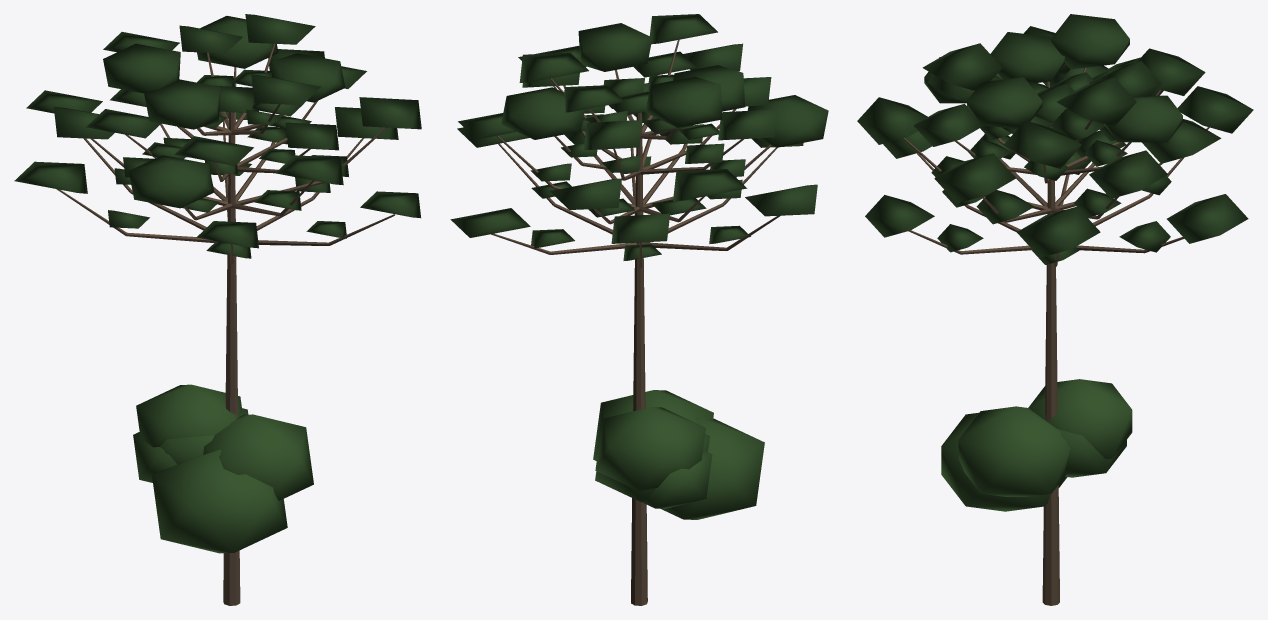
File: serra-vegetation.glb
3 views of the same model, side by side, from view 1: azimuth 30°, elevation 25°; view 2: azimuth 150°, elevation 25°; view 3: azimuth 270°, elevation 25° (orthographic).
Visible parts, largest first — view 1: araucaria-copa, mata-copa, araucaria-tronco; view 2: araucaria-copa, mata-copa, araucaria-tronco; view 3: araucaria-copa, mata-copa, araucaria-tronco.
Boxes of the visible parts, x1,y1,x2,y2 form: araucaria-copa: [14, 14, 421, 258]; mata-copa: [133, 384, 313, 553]; araucaria-tronco: [56, 43, 394, 605]; araucaria-copa: [450, 14, 828, 260]; mata-copa: [593, 390, 764, 519]; araucaria-tronco: [491, 39, 780, 605]; araucaria-copa: [857, 14, 1253, 264]; mata-copa: [941, 379, 1132, 511]; araucaria-tronco: [903, 67, 1209, 605].
Bounding box in the file's own units: 18.36 × 26.41 × 17.23.
